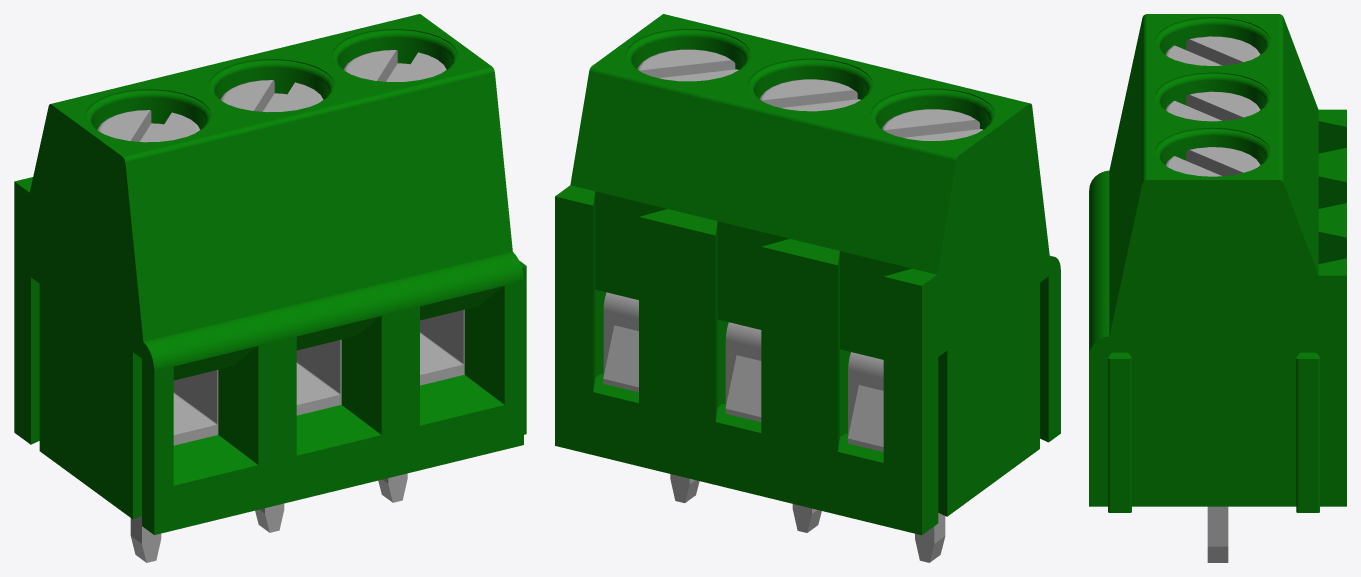
The picture shows the model from 3 angles, left to right: view 1: azimuth 30°, elevation 25°; view 2: azimuth 150°, elevation 25°; view 3: azimuth 270°, elevation 25°; orthographic projection. The views are drawn at different scales.
Visible parts, largest first — view 1: DG500-5.08-03P_body, DG500_pin_contact (×3), DG500_screw (×3), DG500_pin_pad; view 2: DG500-5.08-03P_body, DG500_pin_pad (×3), DG500_screw (×3); view 3: DG500-5.08-03P_body, DG500_screw (×3), DG500_pin_pad.
Part boxes in pixels (x1=…): DG500-5.08-03P_body: x1=14, y1=14, x2=526, y2=534; DG500_pin_contact (×3): x1=173, y1=309, x2=464, y2=445; DG500_screw (×3): x1=97, y1=50, x2=446, y2=142; DG500_pin_pad: x1=130, y1=515, x2=161, y2=562; DG500-5.08-03P_body: x1=555, y1=14, x2=1060, y2=535; DG500_pin_pad (×3): x1=603, y1=292, x2=945, y2=562; DG500_screw (×3): x1=637, y1=49, x2=982, y2=140; DG500-5.08-03P_body: x1=1089, y1=14, x2=1346, y2=512; DG500_screw (×3): x1=1165, y1=36, x2=1260, y2=176; DG500_pin_pad: x1=1207, y1=506, x2=1228, y2=562.
Bounding box in the file's own units: 0.0158 × 0.0175 × 0.01.
